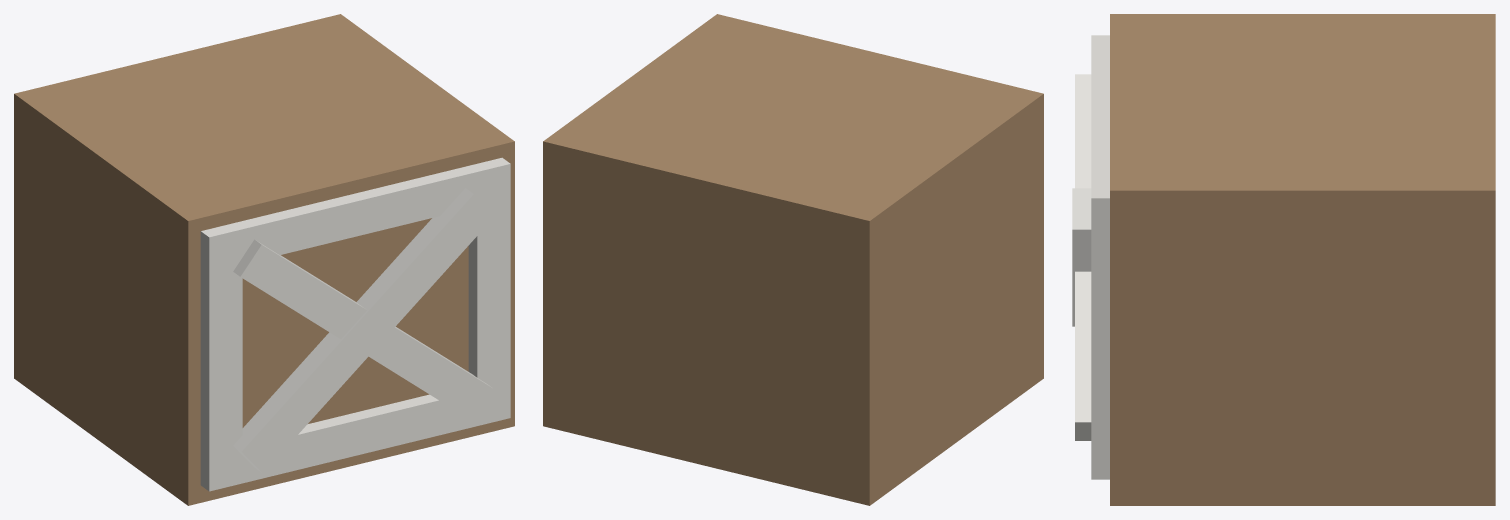
3 views of the same model, side by side, from view 1: azimuth 30°, elevation 25°; view 2: azimuth 150°, elevation 25°; view 3: azimuth 270°, elevation 25° (orthographic). The views are drawn at different scales.
Visible parts, largest first — view 1: Box, Brace.B, Slat.Top, Slat.Bottom, Brace.A, Slat.L, Slat.R; view 2: Box; view 3: Box, Brace.A, Slat.R, Slat.Top, Brace.B, Slat.Bottom.
Part boxes in pixels (<box>): Box: <box>14,14,514,505</box>; Brace.B: <box>233,188,494,473</box>; Slat.Top: <box>200,157,510,272</box>; Slat.Bottom: <box>200,384,510,491</box>; Brace.A: <box>233,239,493,420</box>; Slat.L: <box>200,234,242,486</box>; Slat.R: <box>468,168,510,414</box>; Box: <box>543,14,1043,505</box>; Box: <box>1110,14,1495,505</box>; Brace.A: <box>1075,74,1091,440</box>; Slat.R: <box>1091,203,1109,452</box>; Slat.Top: <box>1091,35,1109,236</box>; Brace.B: <box>1072,188,1091,326</box>; Slat.Bottom: <box>1091,441,1109,479</box>.
Bounding box in the file's own units: 0.78 × 0.65 × 0.79.
